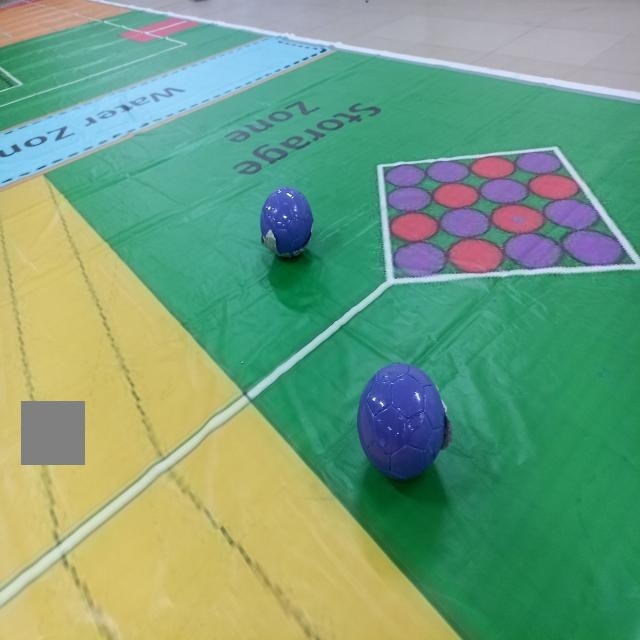purple_ball: (358, 356, 450, 487), (258, 185, 316, 263)
